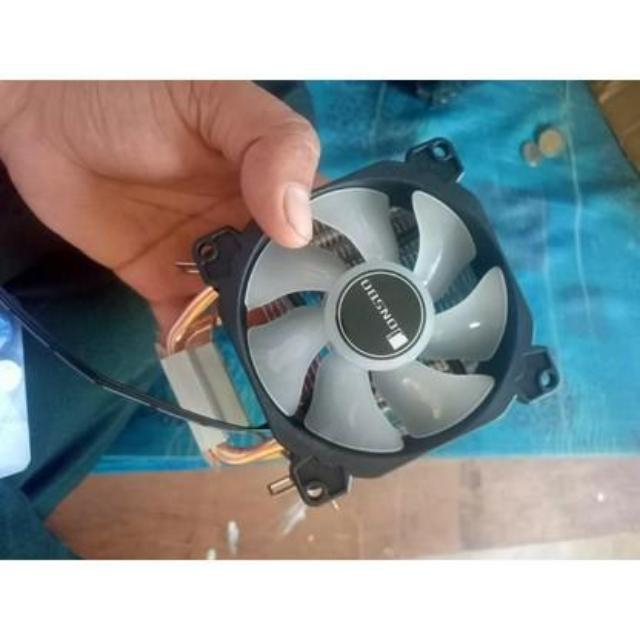CPU_Fan: (164, 141, 562, 501)
